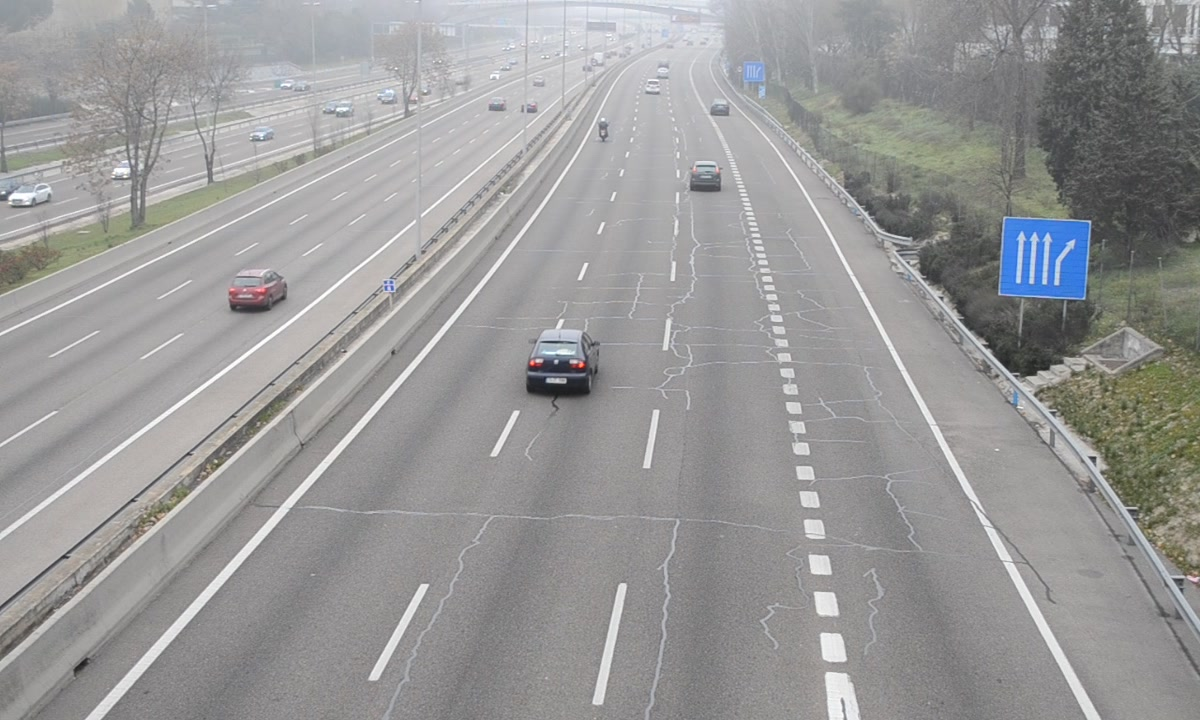car: (525, 328, 599, 395), (687, 158, 722, 192), (710, 99, 729, 116)
motorcycle: (597, 117, 608, 145)
